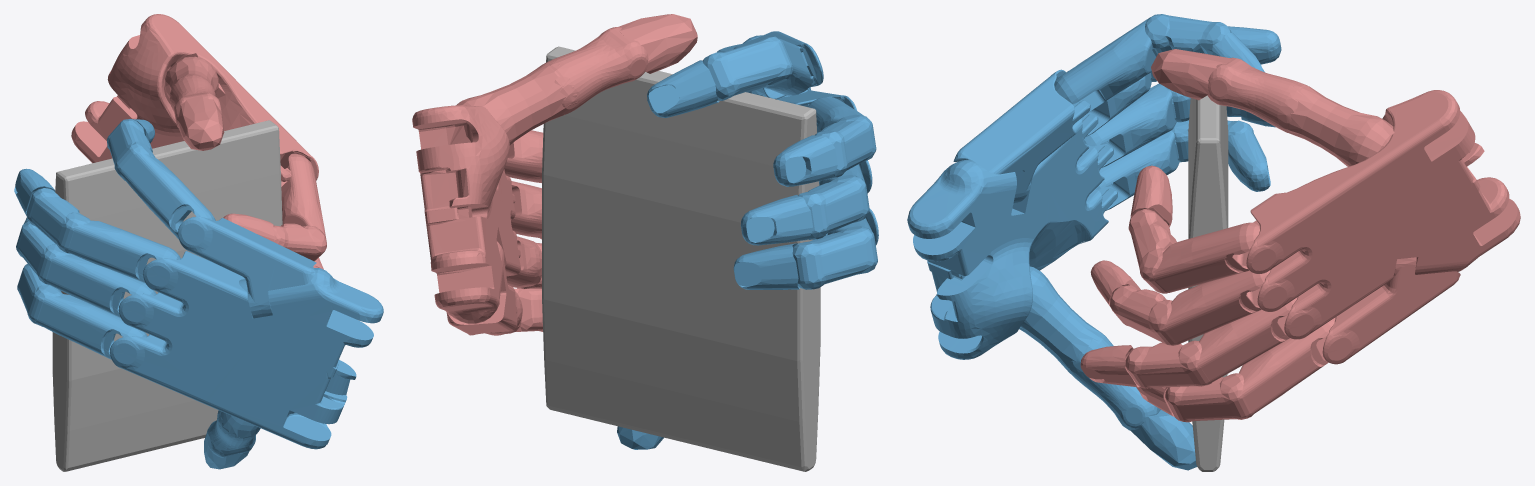
Rendered from Wallet_mesh.glb.
3 renders of one model, left to right at view 1: azimuth 30°, elevation 25°; view 2: azimuth 150°, elevation 25°; view 3: azimuth 270°, elevation 25°, orthographic. The views are drawn at different scales.
Visible parts, largest first — view 1: geom_1, geom_0, geom_2; view 2: geom_0, geom_2, geom_1; view 3: geom_2, geom_1, geom_0.
Part boxes in pixels (x1,y1,x2,y2): geom_1: (14,119,383,469); geom_0: (52,120,282,471); geom_2: (71,14,326,269); geom_0: (542,46,820,471); geom_2: (412,14,697,335); geom_1: (617,31,878,449); geom_2: (1080,49,1520,422); geom_1: (907,14,1281,470); geom_0: (1188,95,1228,471).
Bounding box in the file's own units: 0.1753 × 0.1896 × 0.2599.
